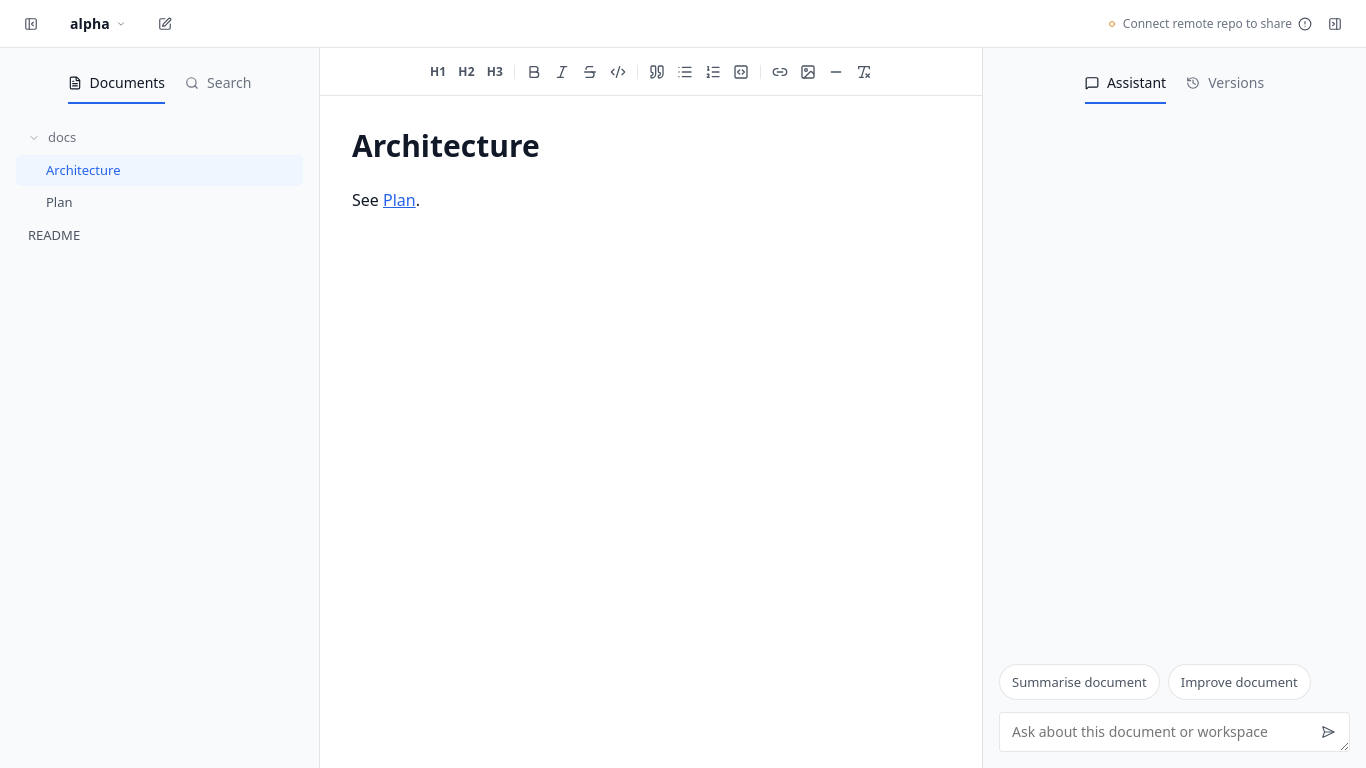
Test case: App › shows simplified snapshot subject and summed line update stats in Versions
Expected: the element with test id "workspace-sidebar" is shown, [0, 48, 320, 767]
Step 1. Click the tab "Versions" → [1225, 84], box [1186, 64, 1264, 104]
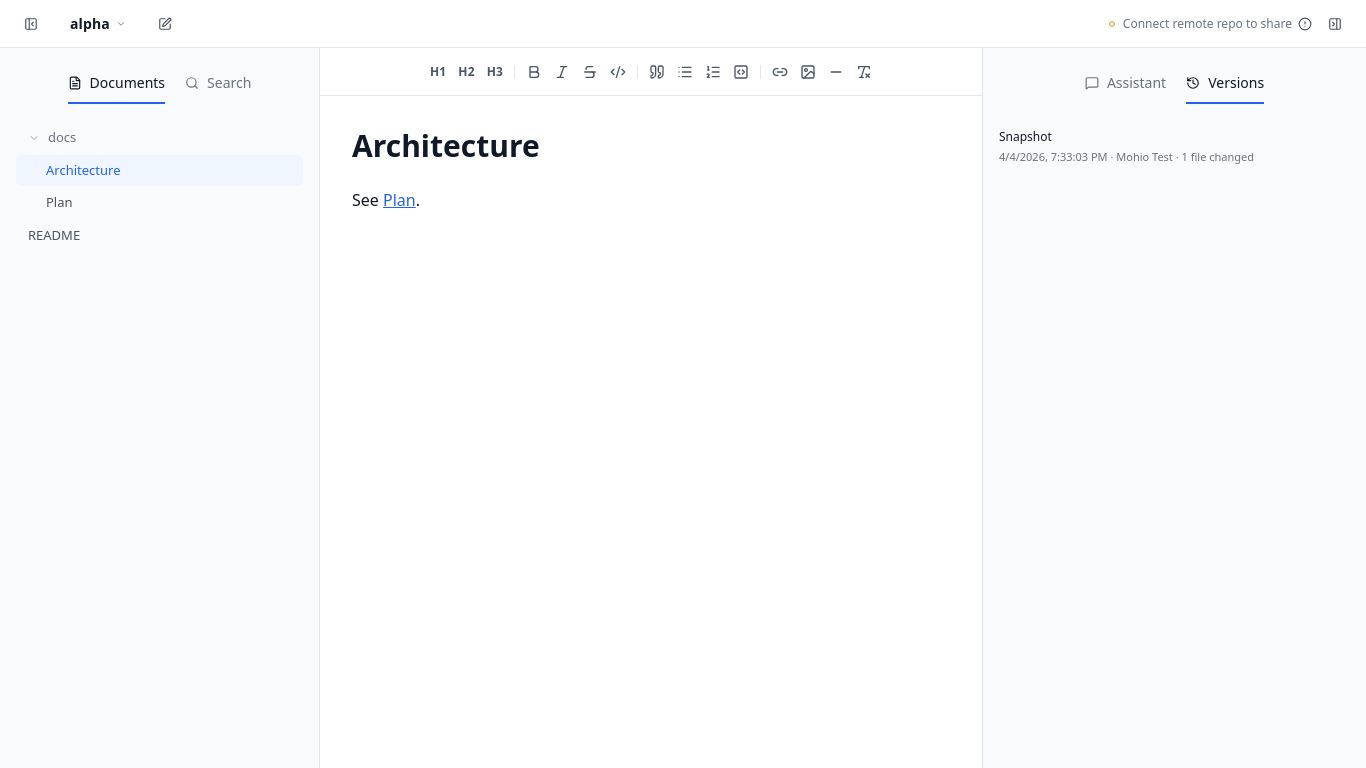
Result: the text "Snapshot" is shown at [999, 128, 1052, 145]
Result: the text "4/4/2026, 7:33:03 PM · Mohio Test · 1 file changed" is shown at [999, 149, 1254, 164]
